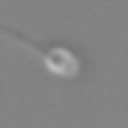normal: (1, 29, 49, 57)
